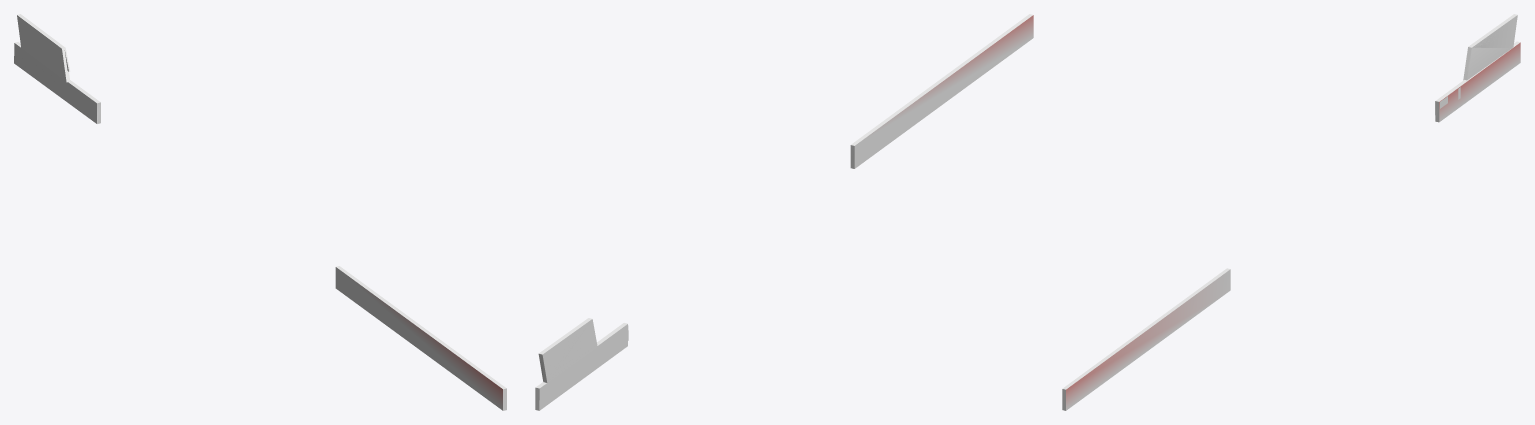
The model's file is garage_racetrack2.dae.
3 renders of one model, left to right at view 1: azimuth 30°, elevation 25°; view 2: azimuth 150°, elevation 25°; view 3: azimuth 330°, elevation 25°, orthographic. The views are drawn at different scales.
Visible parts, largest first — view 1: Colmesh-1, tunnel_mainTrackEntrance_a1000; view 2: Colmesh-1, tunnel_mainTrackEntrance_a1000; view 3: Colmesh-1.
Part boxes in pixels (left/top/right/bottom): Colmesh-1: left=14, top=14, right=506, bottom=410; tunnel_mainTrackEntrance_a1000: left=14, top=43, right=100, bottom=123; Colmesh-1: left=535, top=14, right=1033, bottom=410; tunnel_mainTrackEntrance_a1000: left=535, top=324, right=628, bottom=410; Colmesh-1: left=1062, top=14, right=1520, bottom=410.
Size of the model in its own units: 2.37 by 107 by 6.63.
